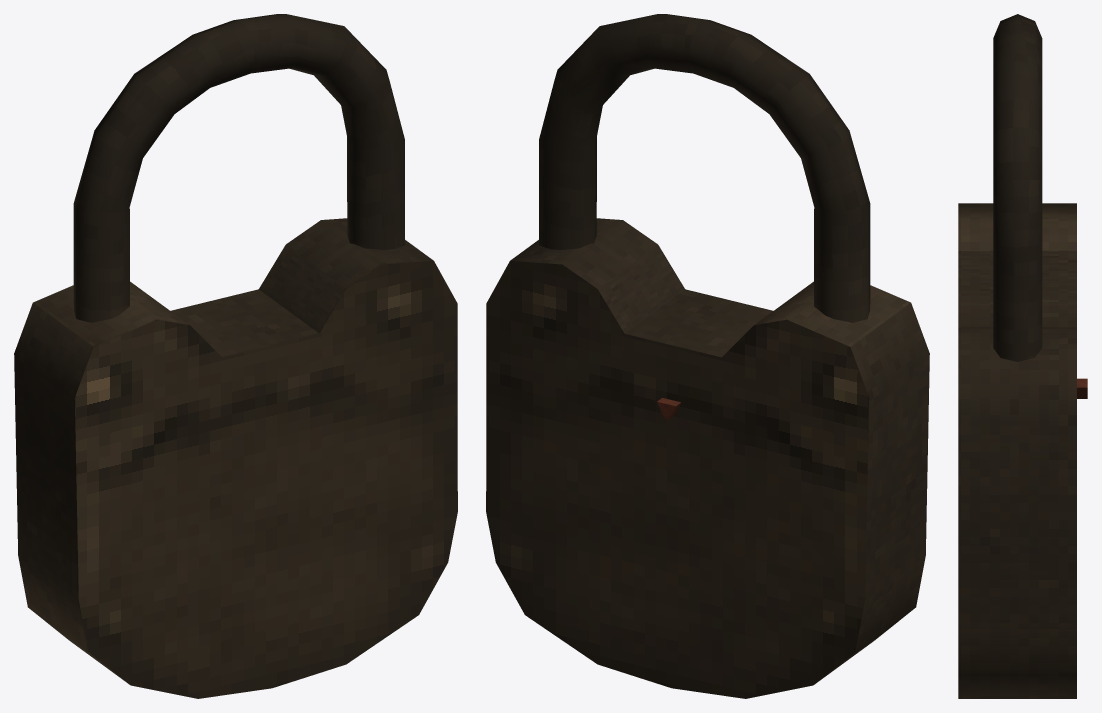
File: padlock_3.glb
3 views of the same model, side by side, from view 1: azimuth 30°, elevation 25°; view 2: azimuth 150°, elevation 25°; view 3: azimuth 270°, elevation 25° (orthographic). The views are drawn at different scales.
Visible parts, largest first — view 1: padlock_3, padlock_3_shackle; view 2: padlock_3, padlock_3_shackle; view 3: padlock_3, padlock_3_shackle.
Part boxes in pixels (<box>): padlock_3: <box>14,218,457,698</box>; padlock_3_shackle: <box>73,14,404,322</box>; padlock_3: <box>486,218,929,698</box>; padlock_3_shackle: <box>539,14,870,322</box>; padlock_3: <box>958,203,1087,698</box>; padlock_3_shackle: <box>993,14,1042,361</box>.
Bounding box in the file's own units: 0.0806 × 0.1299 × 0.0241.
Materials: 1 (1 with a texture image).
